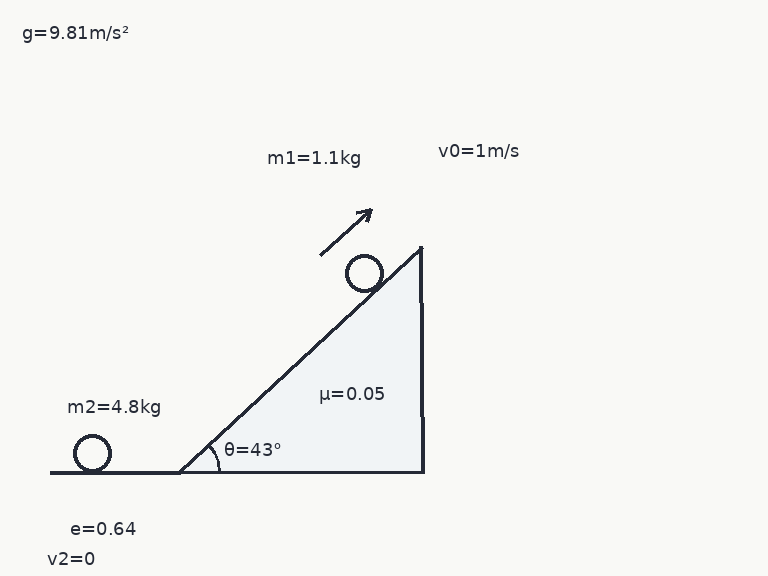ball: (343, 252, 385, 294), (71, 432, 113, 474)
ramp: (177, 245, 422, 474)
